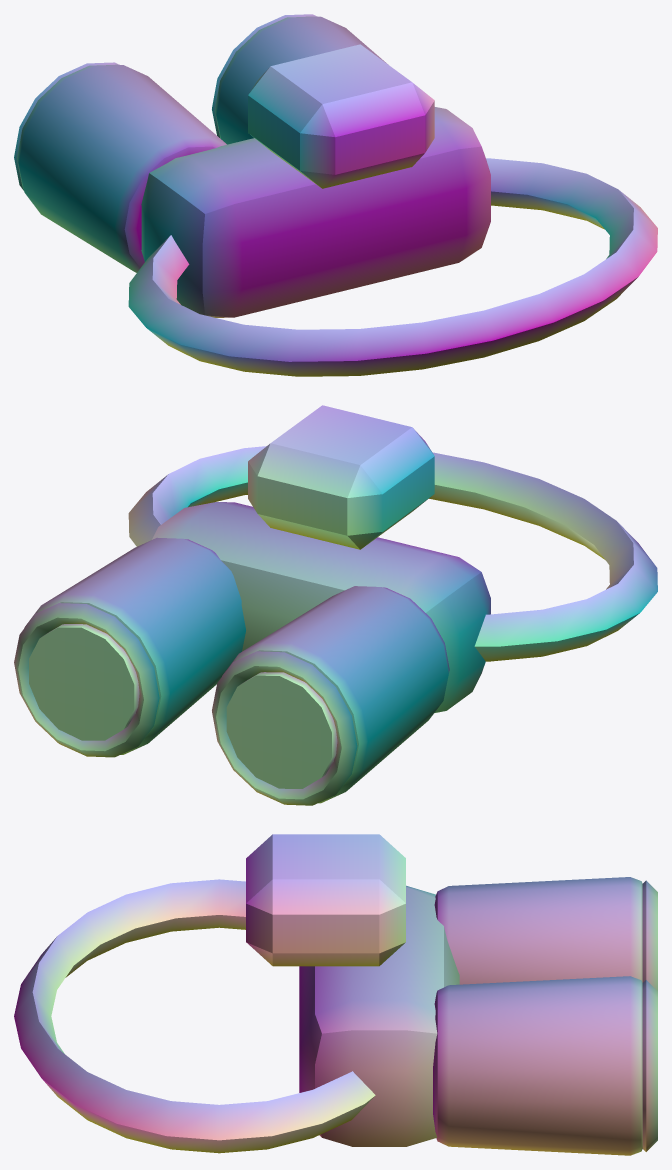
File: gad_goggles.glb
3 views of the same model, one above another, from view 1: azimuth 30°, elevation 25°; view 2: azimuth 150°, elevation 25°; view 3: azimuth 270°, elevation 25° (orthographic). The views are drawn at different scales.
Parts seen in each view (by area): view 1: goggles; view 2: goggles; view 3: goggles.
Boxes of the visible parts, box(x1,y1,x2,y2) form: goggles: box(14, 14, 657, 376); goggles: box(14, 405, 657, 805); goggles: box(14, 834, 657, 1155).
Size of the model in its own units: 0.11 by 0.0499 by 0.1207.
